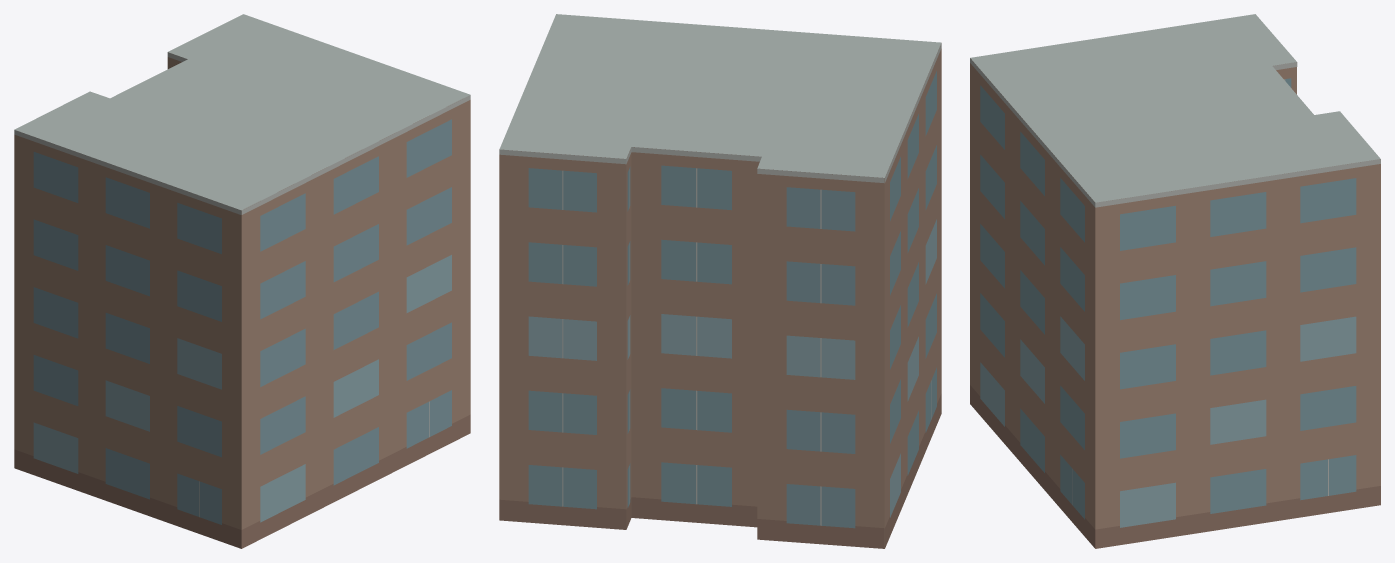
File: survey-upis-32844765.glb
3 renders of one model, left to right at view 1: azimuth 30°, elevation 25°; view 2: azimuth 150°, elevation 25°; view 3: azimuth 270°, elevation 25°, orthographic. The views are drawn at different scales.
Visible parts, largest first — view 1: survey-upis-32844765.tmp; view 2: survey-upis-32844765.tmp; view 3: survey-upis-32844765.tmp.
Part boxes in pixels (x1,y1,x2,y2): survey-upis-32844765.tmp: (14, 14, 470, 548); survey-upis-32844765.tmp: (499, 14, 941, 548); survey-upis-32844765.tmp: (970, 14, 1380, 548).
Bounding box in the file's own units: 20.12 × 17.2 × 18.51.
